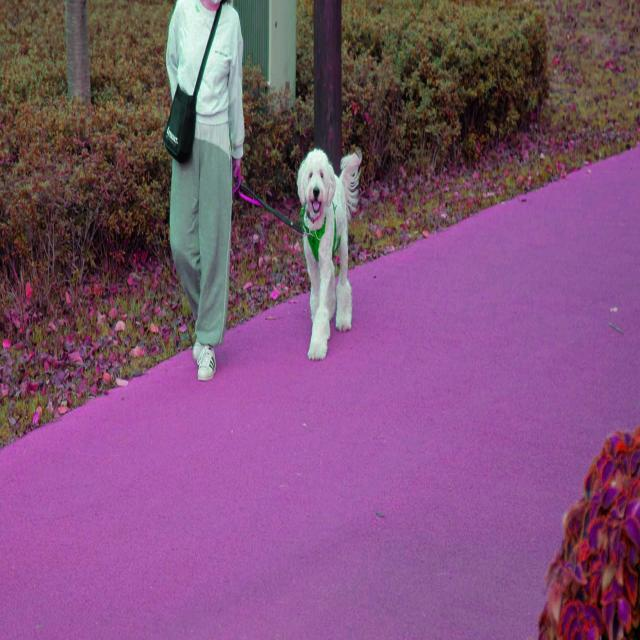Leashed_Dog: (212, 149, 362, 361)
